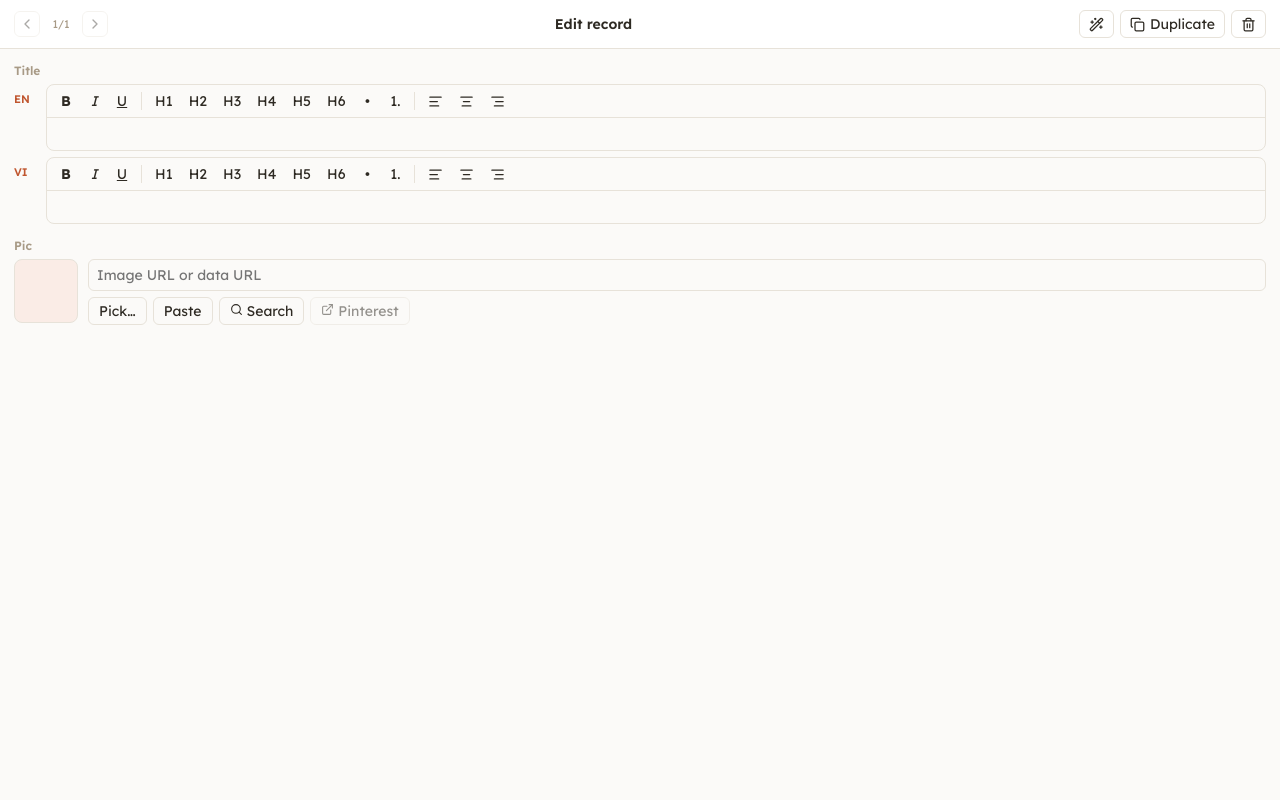
RecordDetail › shows an auto-fill button when the schema has an image field, and opens the modal
The width and height of the screenshot is (1280, 800).
Step 1. Click the button named "auto-fill image" → coordinates (1096, 24), box [1079,10,1114,38]
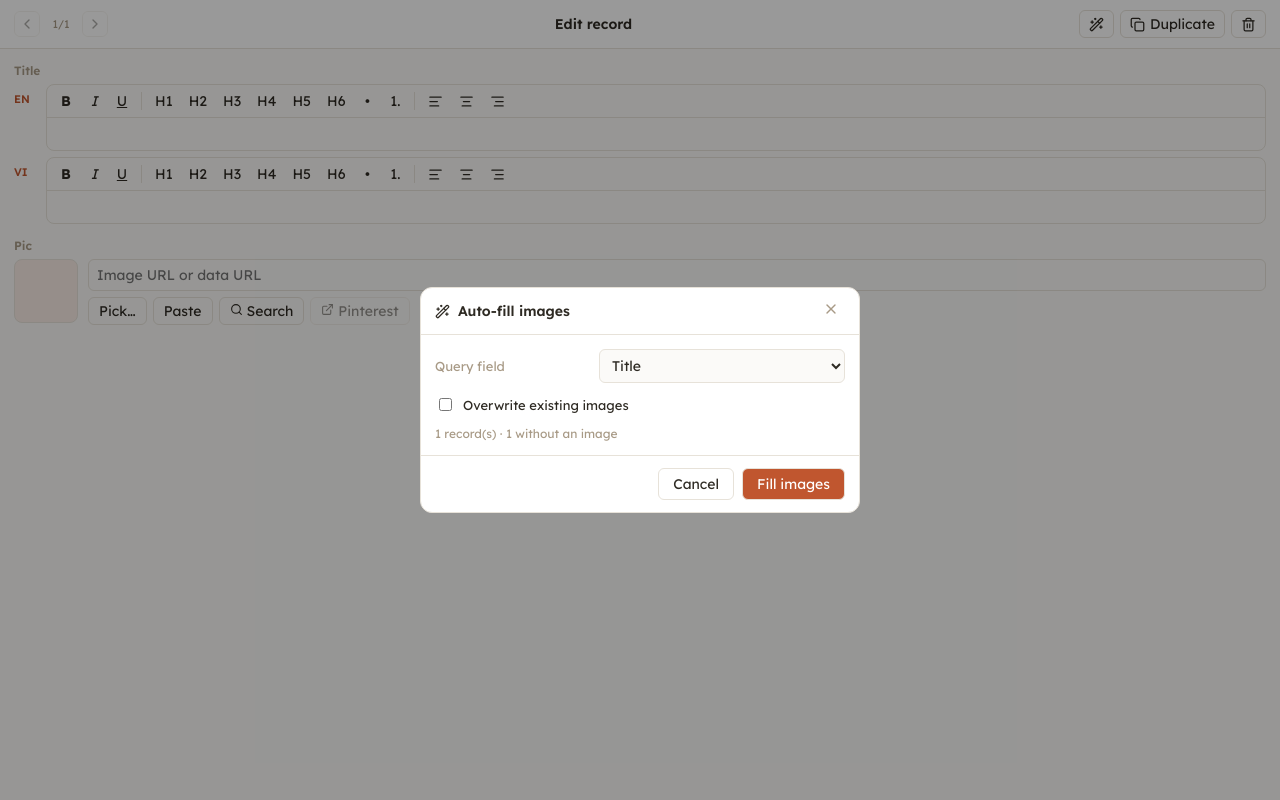
Result: the dialog is shown
